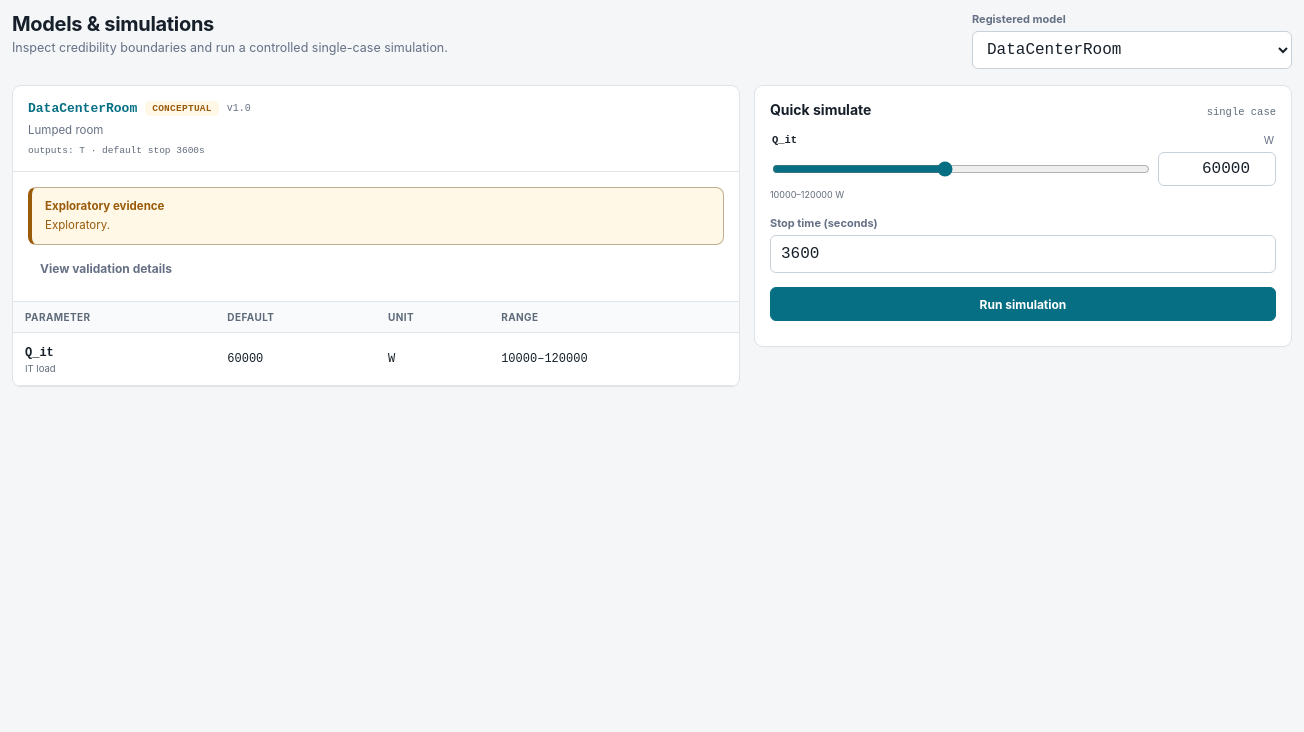
Models › switches registered models and uses the dedicated quick-simulation series contract
Select "PlantModel" in the dropdown labelled "Registered model" at (1132, 50), box [972,31,1292,69]
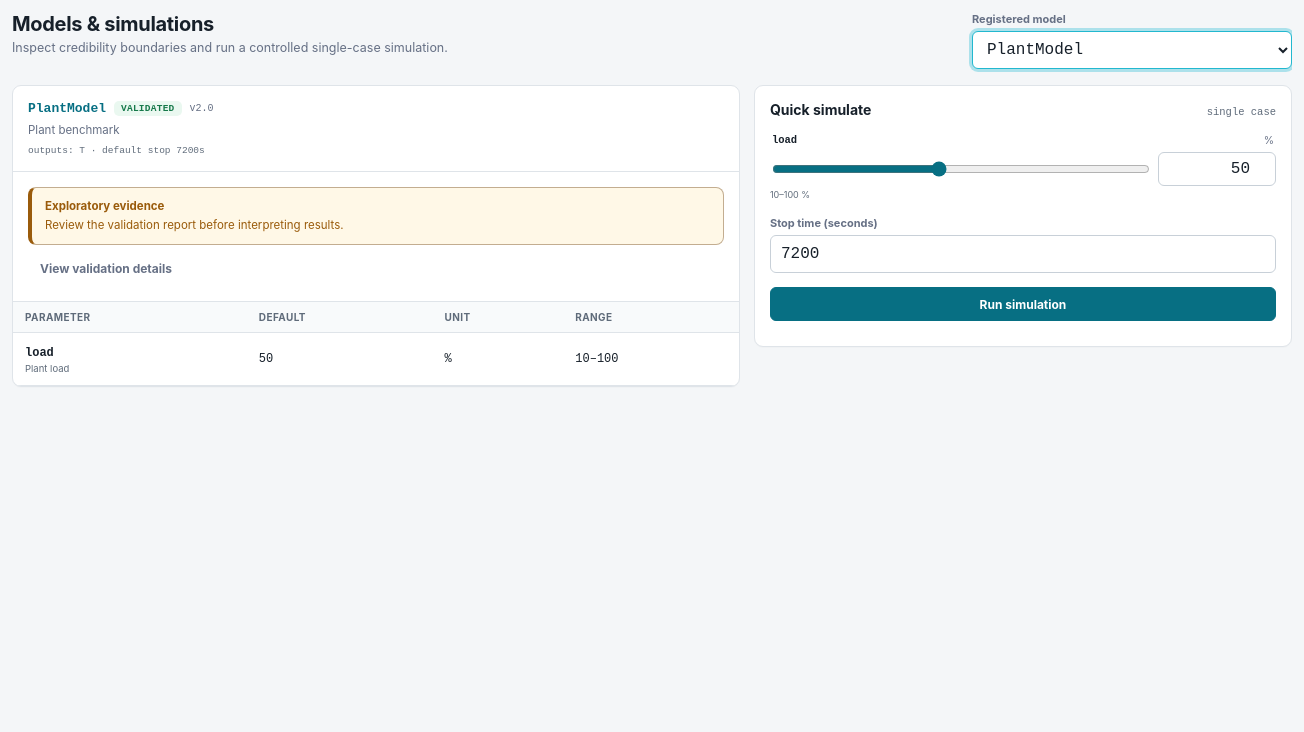
Result: the text "Plant benchmark" is shown at [28,123,120,137]
Result: the number field labelled "Stop time" holds "7200" at [770,235,1276,273]
Replace the text in the number field named "load exact value" with "75" at (1217, 169), box [1158,152,1276,186]
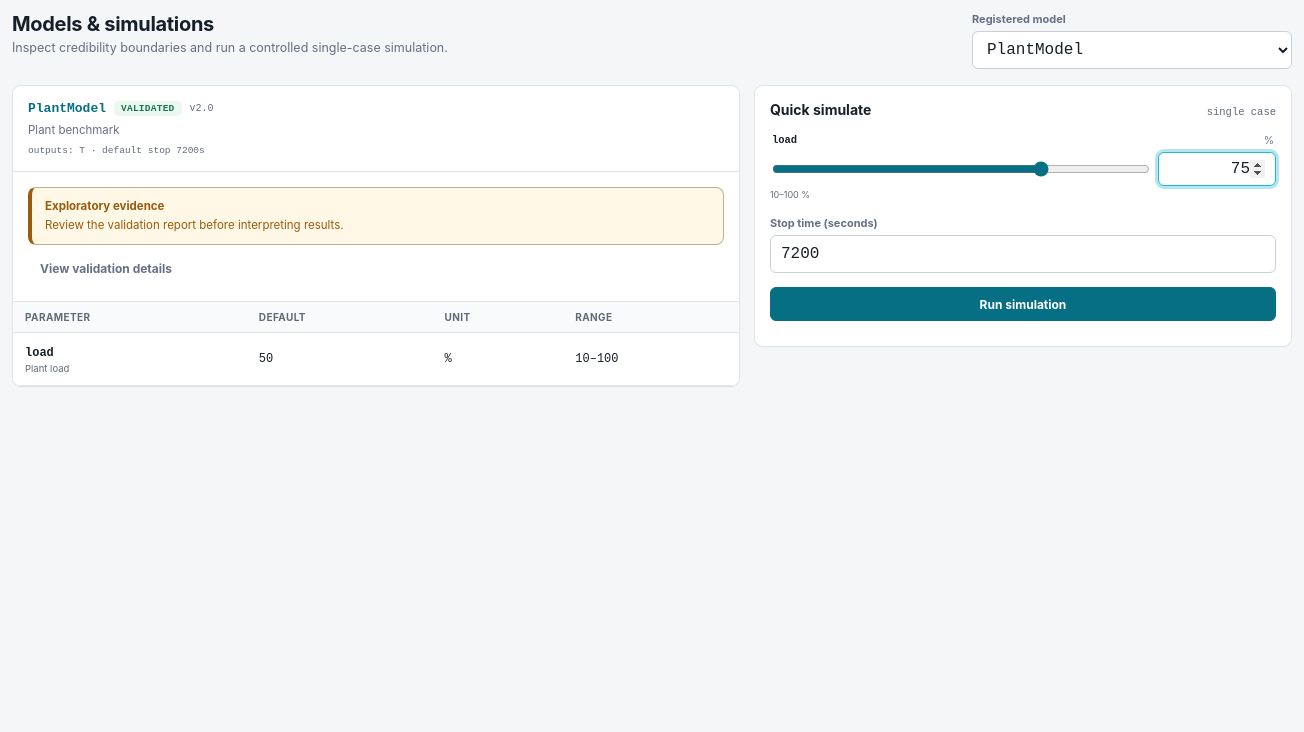
Click the button "Run simulation" at (1023, 304), box [770,287,1276,321]
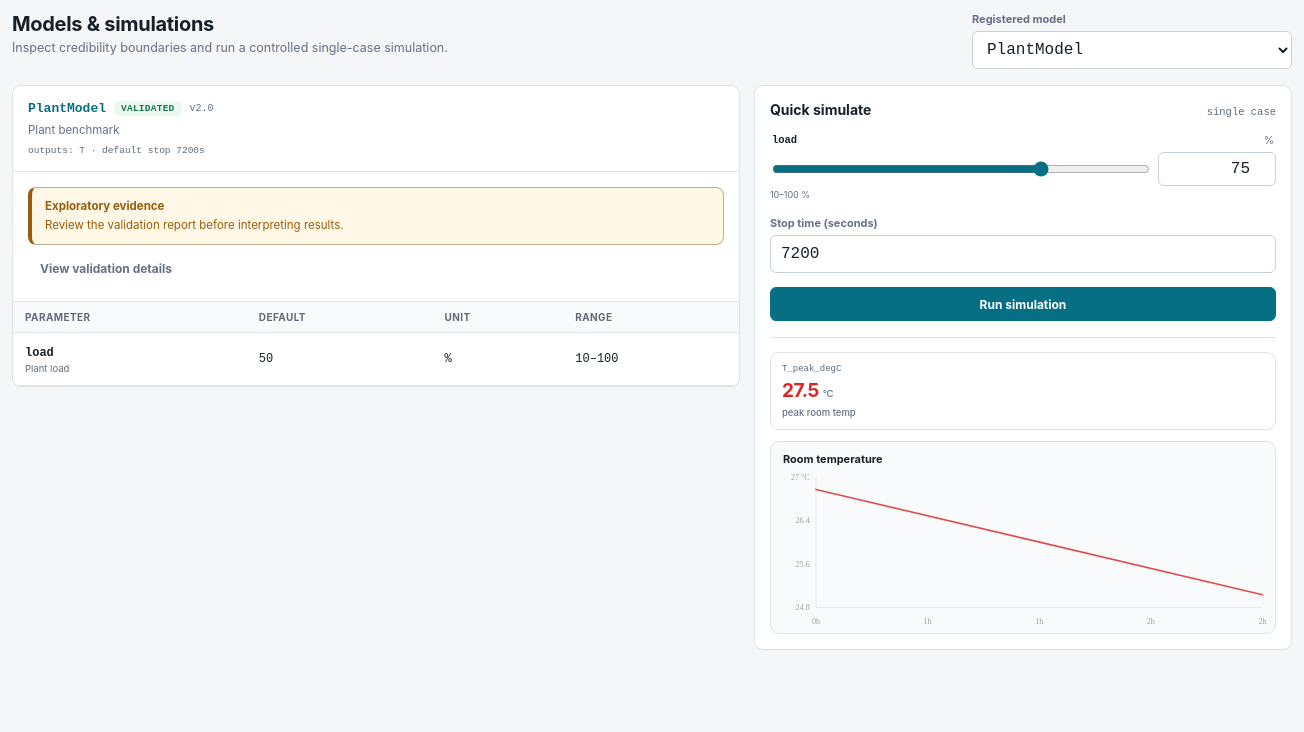
Result: the picture named "Room temperature, 2 samples" is shown at [771,466,1275,632]
